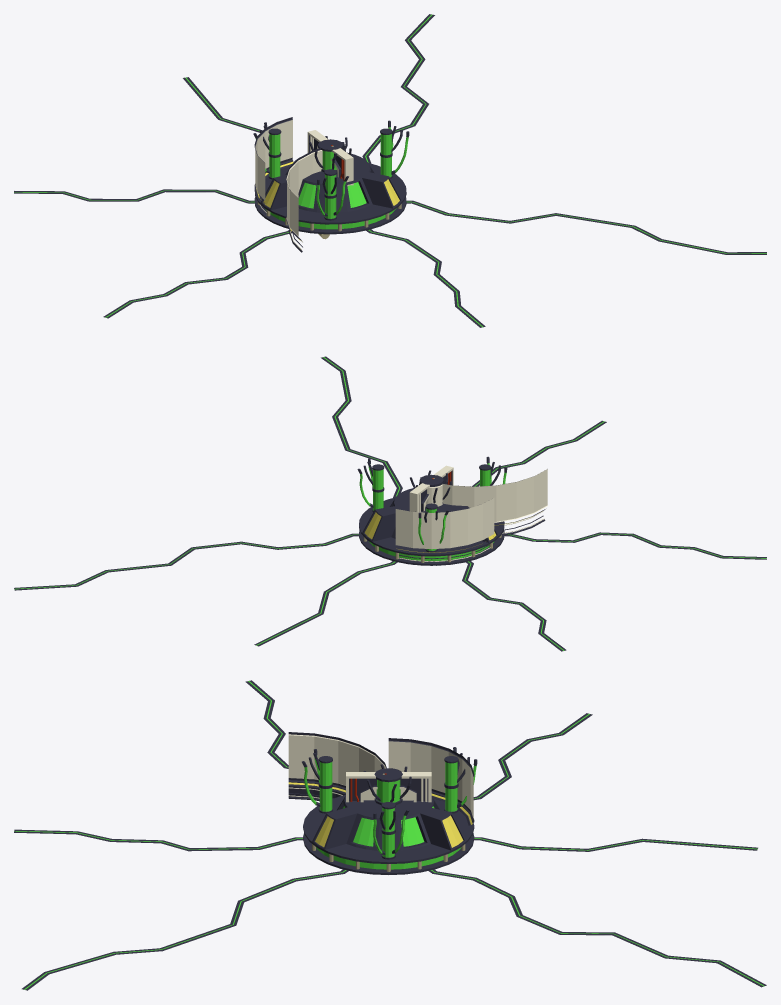
The model's file is UE_sci-fi.fbx.
3 renders of one model, top to bottom at view 1: azimuth 30°, elevation 25°; view 2: azimuth 150°, elevation 25°; view 3: azimuth 270°, elevation 25°, orthographic. The views are drawn at different scales.
Parts seen in each view (by area): view 1: Pc, Wall.001, Corner, Gate; view 2: Pc, Wall.001, Corner, Gate; view 3: Pc, Corner, Wall.001, Gate.
Part boxes in pixels (x1,y1,x2,y2): Pc: [14, 14, 766, 327]; Wall.001: [254, 117, 293, 212]; Corner: [286, 148, 322, 252]; Gate: [307, 130, 353, 186]; Pc: [14, 356, 766, 651]; Wall.001: [395, 498, 494, 561]; Corner: [442, 469, 547, 535]; Gate: [409, 465, 453, 512]; Pc: [14, 680, 766, 990]; Corner: [288, 732, 386, 801]; Wall.001: [388, 738, 474, 825]; Gate: [346, 772, 431, 802].
Bounding box in the file's own units: 5139 × 608 × 5273.
